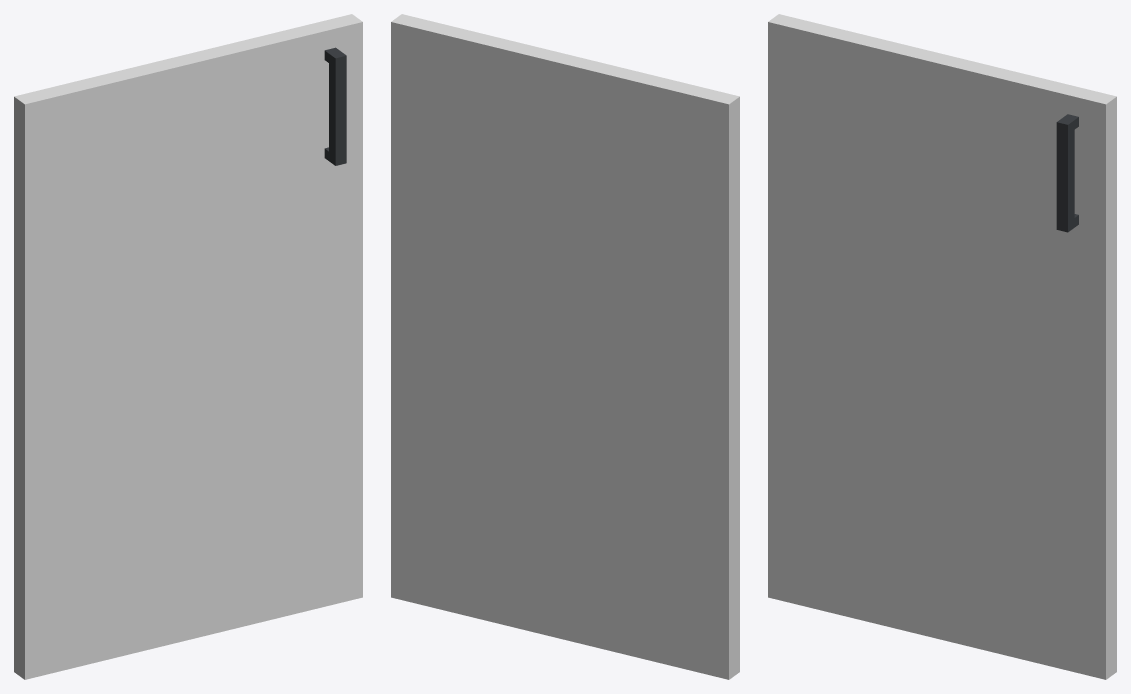
The model's file is BathroomDoor_C1_07.fbx.
3 views of the same model, side by side, from view 1: azimuth 30°, elevation 25°; view 2: azimuth 150°, elevation 25°; view 3: azimuth 330°, elevation 25° (orthographic).
Visible parts, largest first — view 1: BathroomDoor_C1_07; view 2: BathroomDoor_C1_07; view 3: BathroomDoor_C1_07.
Part boxes in pixels (bbox=[...]): BathroomDoor_C1_07: bbox=[14, 14, 362, 679]; BathroomDoor_C1_07: bbox=[391, 14, 739, 679]; BathroomDoor_C1_07: bbox=[768, 14, 1116, 679].
Size of the model in its own units: 45 by 73.19 by 5.03.
